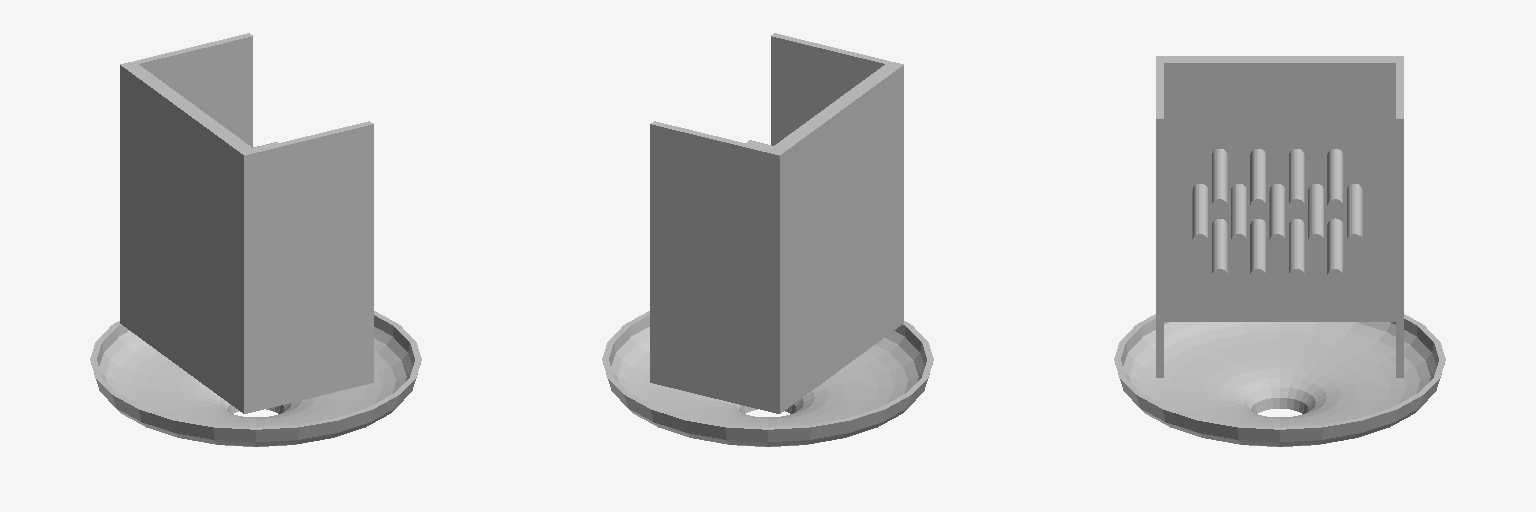
File: standing_start.obj
3 views of the same model, side by side, from view 1: azimuth 30°, elevation 25°; view 2: azimuth 150°, elevation 25°; view 3: azimuth 270°, elevation 25° (orthographic).
Visible parts, largest first — view 1: Cube, Hopper_Mesh; view 2: Cube, Hopper_Mesh; view 3: Cube, Hopper_Mesh, Cylinder, Cylinder.001, Cylinder.004, Cylinder.011, Cylinder.005, Cylinder.006, Cylinder.007, Cylinder.002, Cylinder.010, Cylinder.003 (+3 smaller).
Boxes of the visible parts, x1=… form: Cube: x1=120, y1=33, x2=373, y2=413; Hopper_Mesh: x1=90, y1=311, x2=421, y2=446; Cube: x1=650, y1=33, x2=903, y2=413; Hopper_Mesh: x1=602, y1=311, x2=933, y2=446; Cube: x1=1156, y1=56, x2=1403, y2=377; Hopper_Mesh: x1=1114, y1=314, x2=1445, y2=446; Cylinder: x1=1269, y1=184, x2=1285, y2=248; Cylinder.001: x1=1308, y1=184, x2=1323, y2=248; Cylinder.004: x1=1289, y1=149, x2=1304, y2=213; Cylinder.011: x1=1327, y1=218, x2=1342, y2=283; Cylinder.005: x1=1250, y1=149, x2=1265, y2=213; Cylinder.006: x1=1231, y1=184, x2=1246, y2=248; Cylinder.007: x1=1212, y1=149, x2=1227, y2=213; Cylinder.002: x1=1347, y1=184, x2=1362, y2=248; Cylinder.010: x1=1192, y1=184, x2=1207, y2=248; Cylinder.003: x1=1327, y1=149, x2=1342, y2=213.
Size of the model in its own units: 10 by 10.9 by 10.